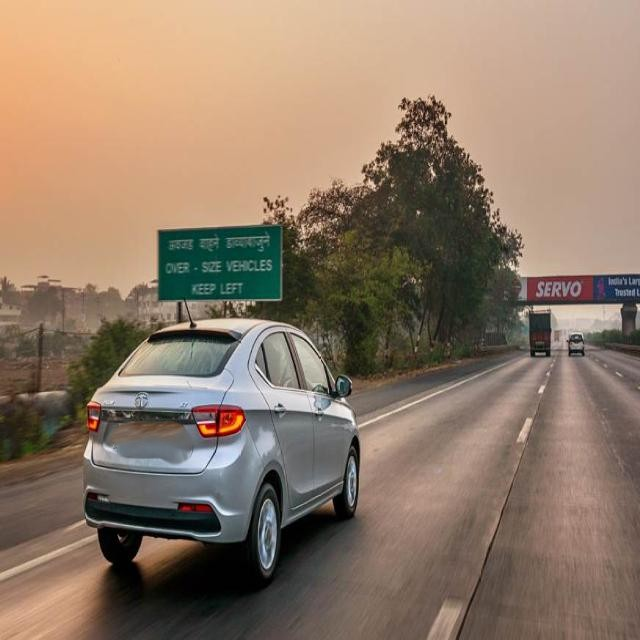car: (81, 305, 362, 590), (568, 331, 586, 359)
truck: (528, 308, 552, 356)
